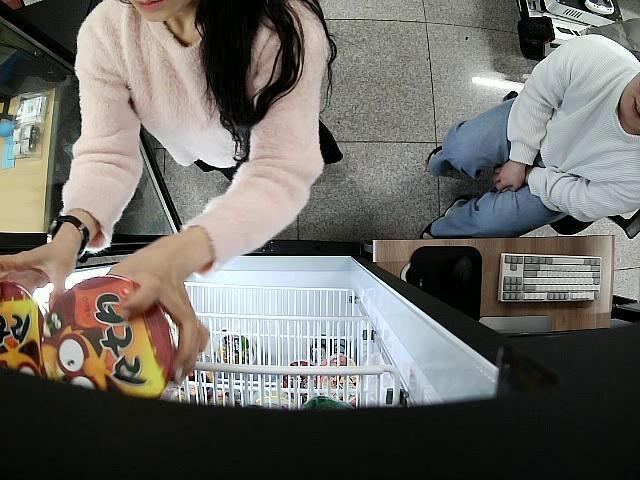05_nuguri_L: (36, 275, 182, 398), (0, 278, 42, 377)
